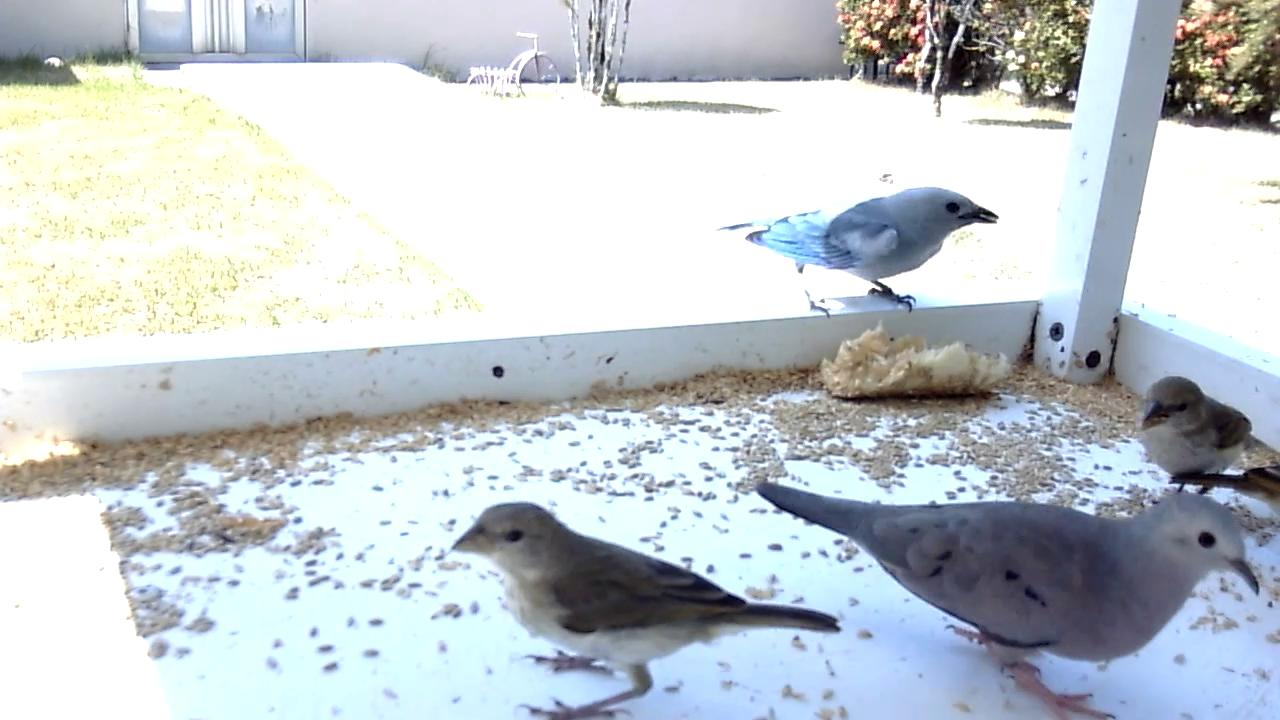canario_do_amazonas: (447, 499, 842, 720), (1134, 373, 1251, 493)
rolinha: (756, 479, 1261, 720)
sanhaco_da_amazonia: (718, 185, 1002, 321)
